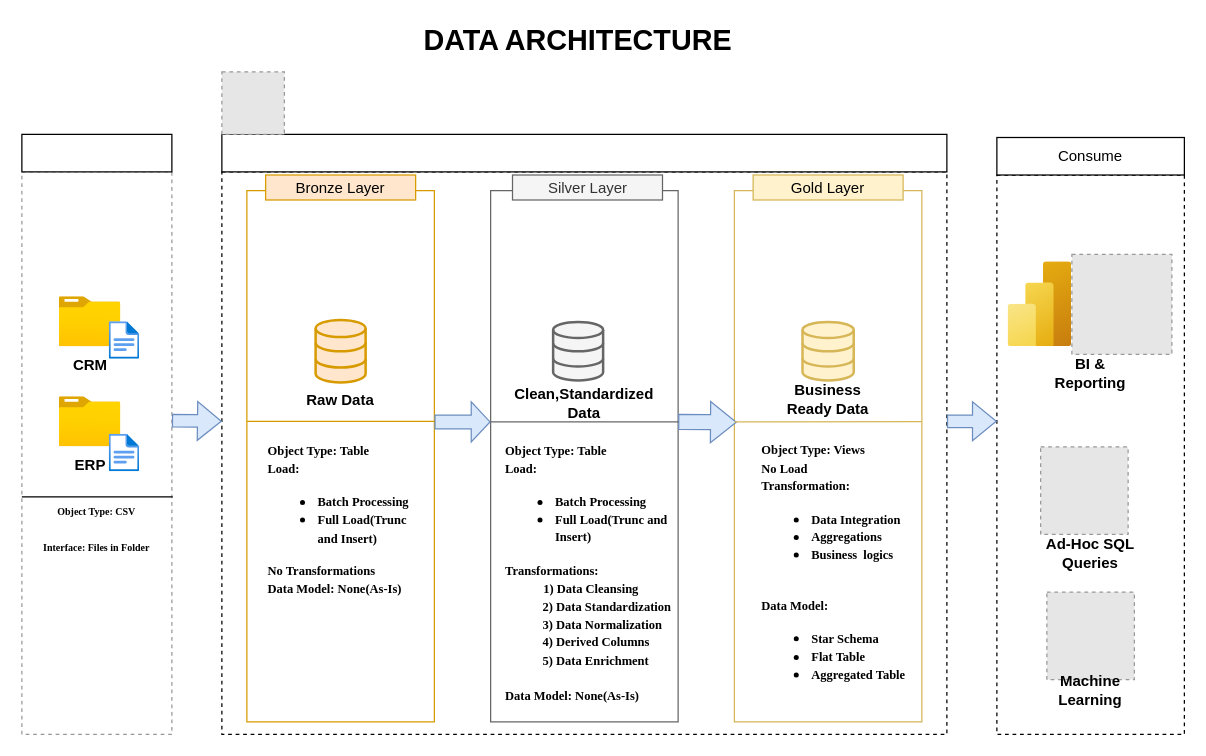
Some shapes in this 1206 by 756 pixel diagram are drawn without their labels. Grey dashed boxes stand in for pictures. The centre of each missing label's shape, as x and y in pixels:
"Data Warehouse" goes at pixel 584 152.
"Source" goes at pixel 96 152.
